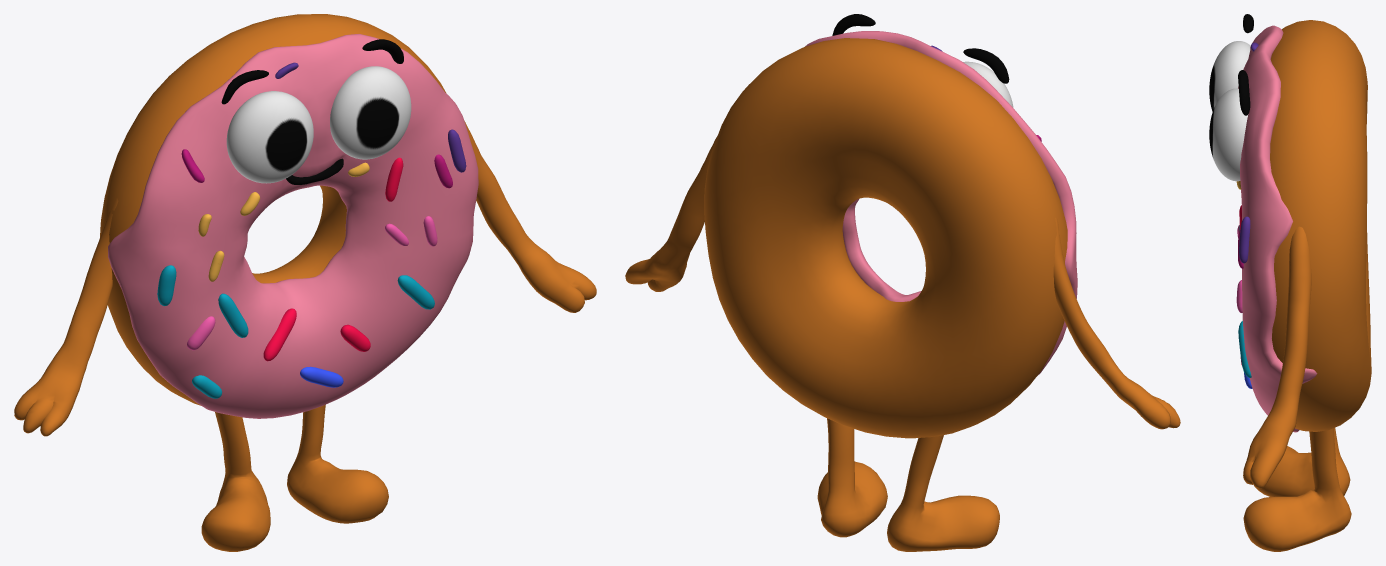
The model's file is Donut.fbx.
The picture shows the model from 3 angles, left to right: view 1: azimuth 30°, elevation 25°; view 2: azimuth 150°, elevation 25°; view 3: azimuth 270°, elevation 25°; orthographic projection. The views are drawn at different scales.
Visible parts, largest first — view 1: Donut_Cartoon; view 2: Donut_Cartoon; view 3: Donut_Cartoon.
Boxes of the visible parts, left/top/right/bottom form: Donut_Cartoon: left=14, top=14, right=596, bottom=551; Donut_Cartoon: left=625, top=14, right=1180, bottom=551; Donut_Cartoon: left=1209, top=14, right=1371, bottom=551.
Size of the model in its own units: 1.04 by 0.8692 by 0.2655.
1 material, 1 textured.
